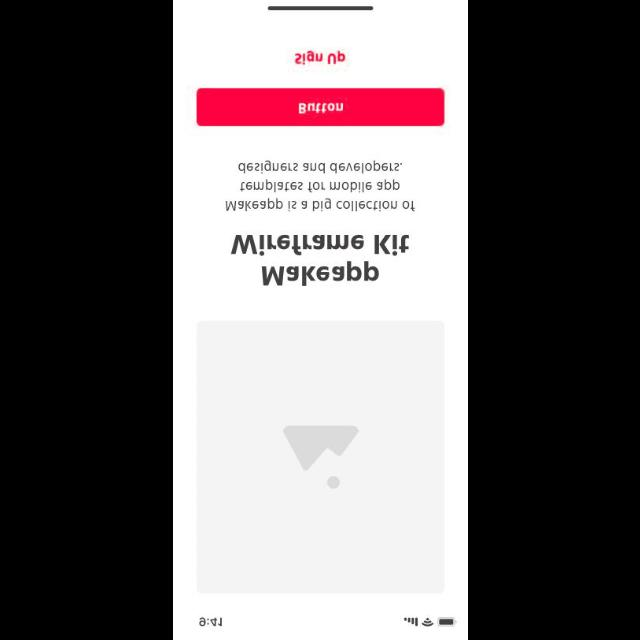image: (197, 321, 445, 594)
text: (226, 160, 414, 212), (230, 234, 408, 286), (294, 51, 346, 65)
textbutton: (196, 88, 444, 126)
uppertaskbar: (199, 616, 457, 626)
